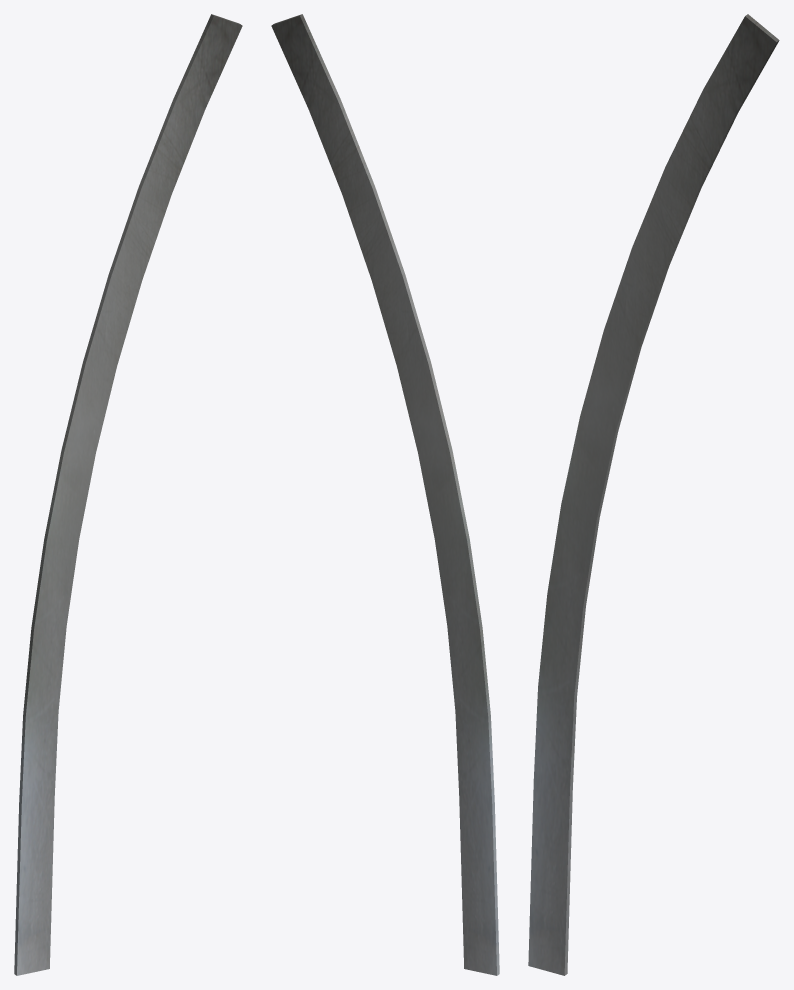
File: blade_103.fbx
The picture shows the model from 3 angles, left to right: view 1: azimuth 30°, elevation 25°; view 2: azimuth 150°, elevation 25°; view 3: azimuth 330°, elevation 25°; orthographic projection. The views are drawn at different scales.
Visible parts, largest first — view 1: blade_103; view 2: blade_103; view 3: blade_103.
Boxes of the visible parts, <box> form: blade_103: <box>14,14,242,975</box>; blade_103: <box>271,14,499,975</box>; blade_103: <box>528,14,779,975</box>.
Size of the model in its own units: 6.85 by 26.47 by 0.1387.
